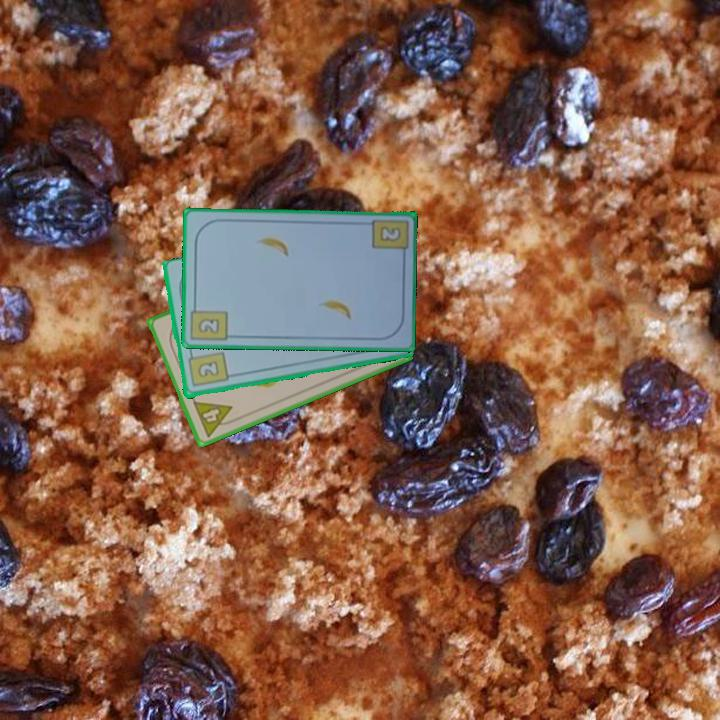2b: (184, 348, 231, 390), (188, 299, 230, 344), (376, 223, 404, 244)
4p: (189, 397, 240, 440)
